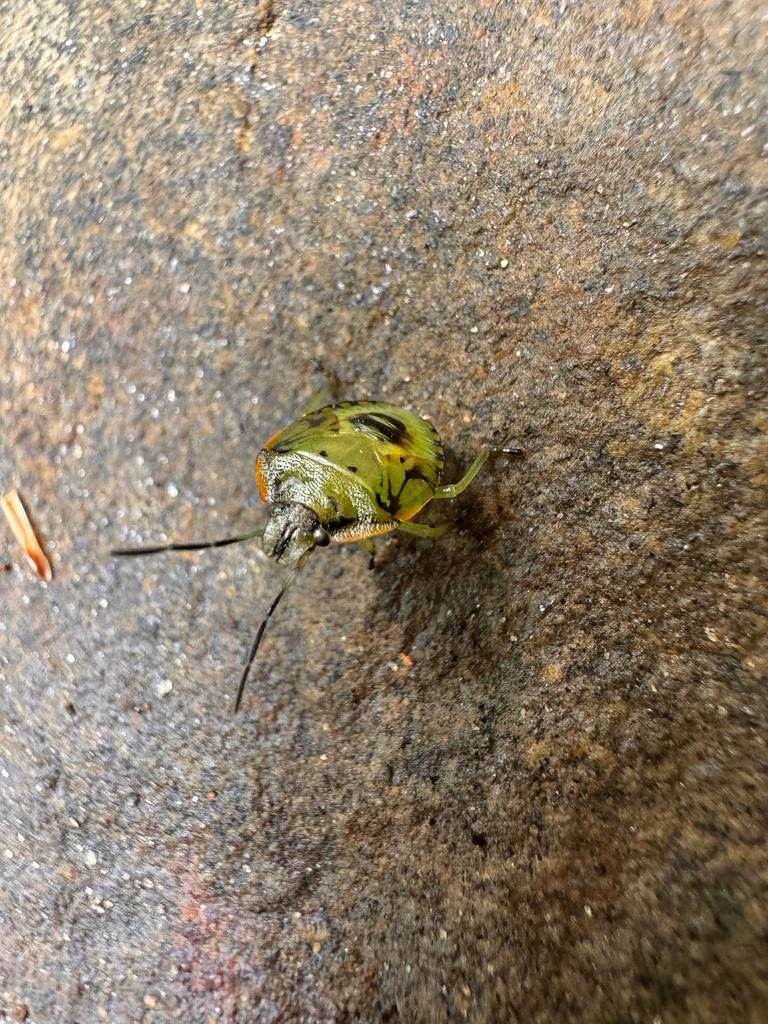stink_bugs: (78, 315, 558, 744)
